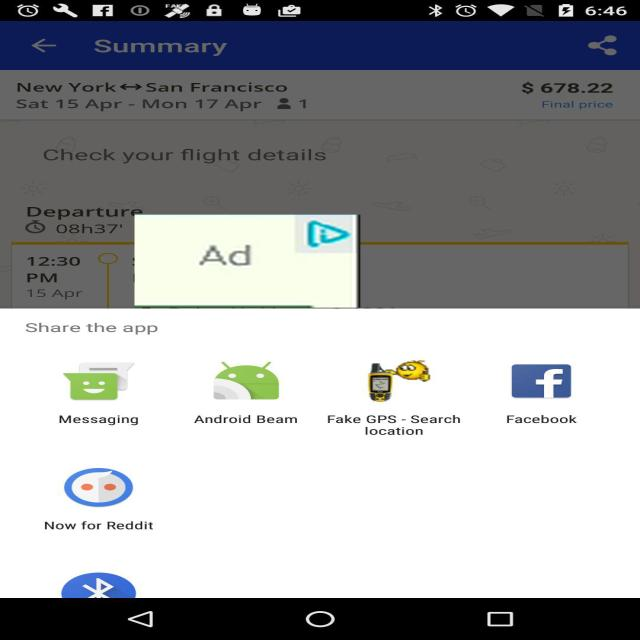sneaking: (134, 215, 360, 308)
